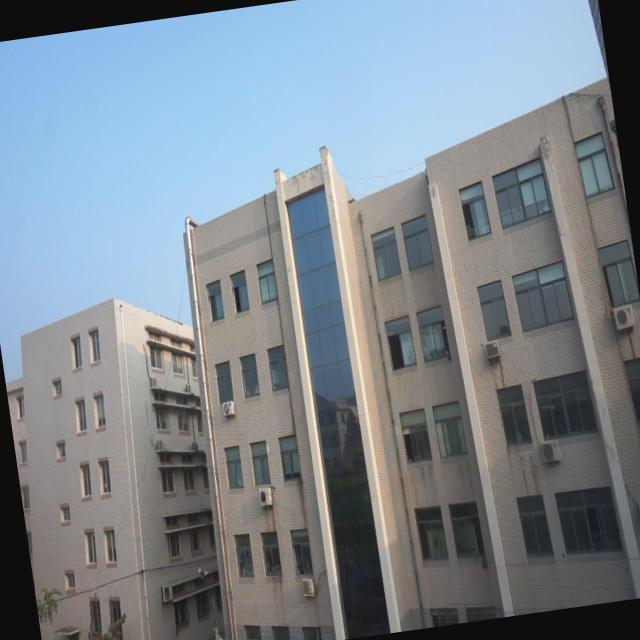drone: (195, 562, 212, 586)
